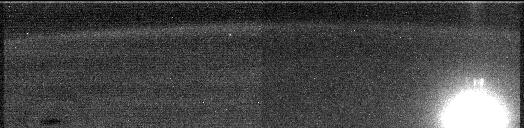positive: (468, 75, 487, 92)
